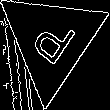P_SW: (24, 10, 79, 72)
